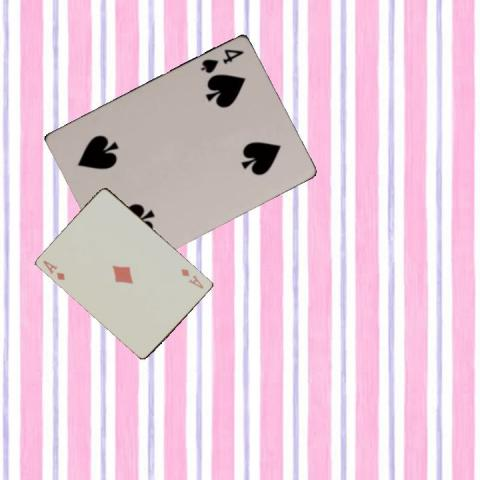4s: (197, 45, 246, 75)
Ad: (178, 265, 205, 290), (40, 257, 67, 282)
